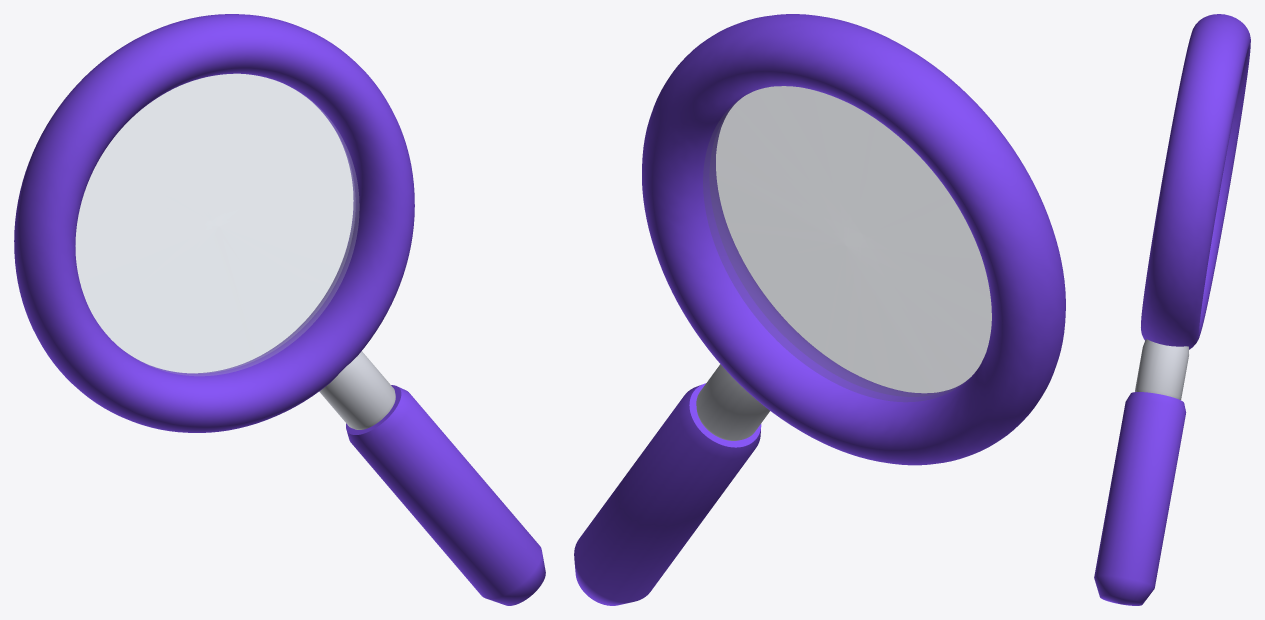
File: lens.glb
3 views of the same model, side by side, from view 1: azimuth 30°, elevation 25°; view 2: azimuth 150°, elevation 25°; view 3: azimuth 270°, elevation 25° (orthographic). The views are drawn at different scales.
Visible parts, largest first — view 1: Torus, lensglass, handle, neck; view 2: Torus, lensglass, handle, neck; view 3: Torus, handle, neck.
Boxes of the visible parts, <box> form: Torus: <box>14,14,414,432</box>; lensglass: <box>75,74,359,375</box>; handle: <box>346,385,545,605</box>; neck: <box>319,351,395,429</box>; Torus: <box>642,14,1065,465</box>; lensglass: <box>703,86,991,401</box>; handle: <box>574,383,761,605</box>; neck: <box>696,364,769,440</box>; Torus: <box>1141,14,1250,349</box>; handle: <box>1094,392,1186,605</box>; neck: <box>1135,339,1188,399</box>.
Bounding box in the file's own units: 2.15 × 2.63 × 0.7788.
